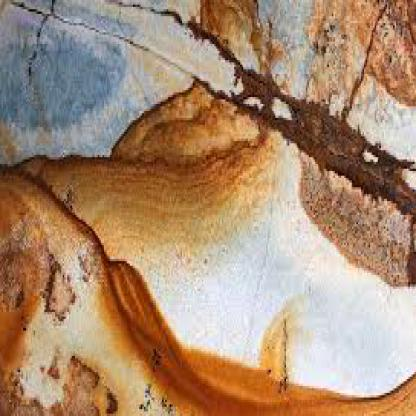Metamorphic_Marble: (0, 2, 415, 414)
